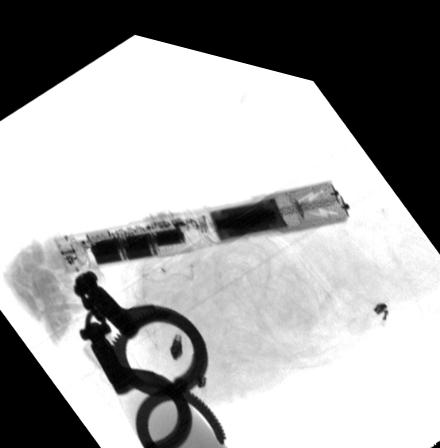Baton: (54, 162, 351, 272)
HandCuffs: (72, 262, 228, 448)
